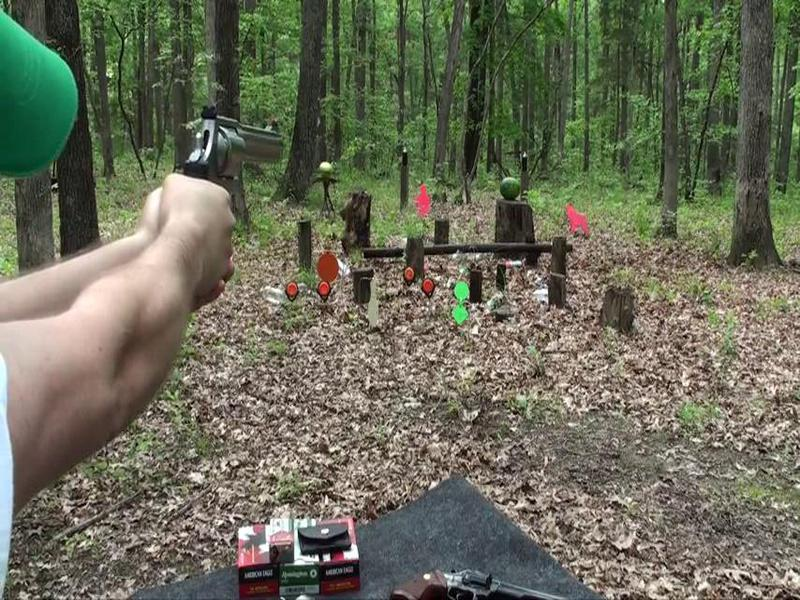Revolver: (149, 74, 285, 230)
